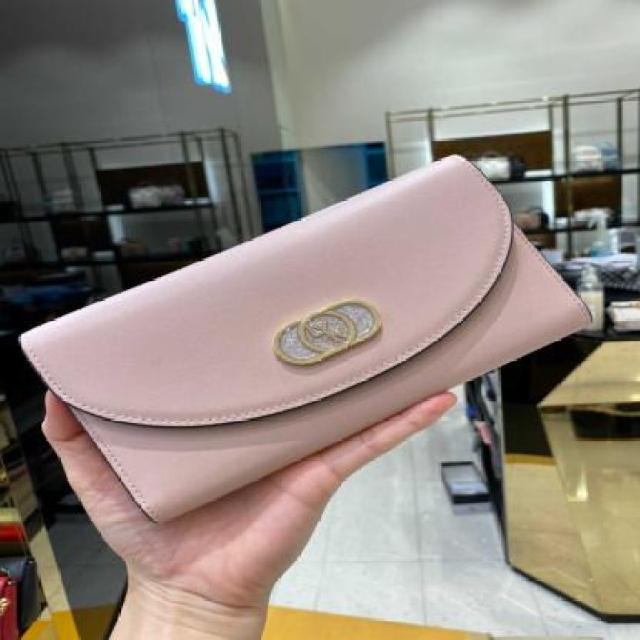Bag: (0, 96, 622, 558)
